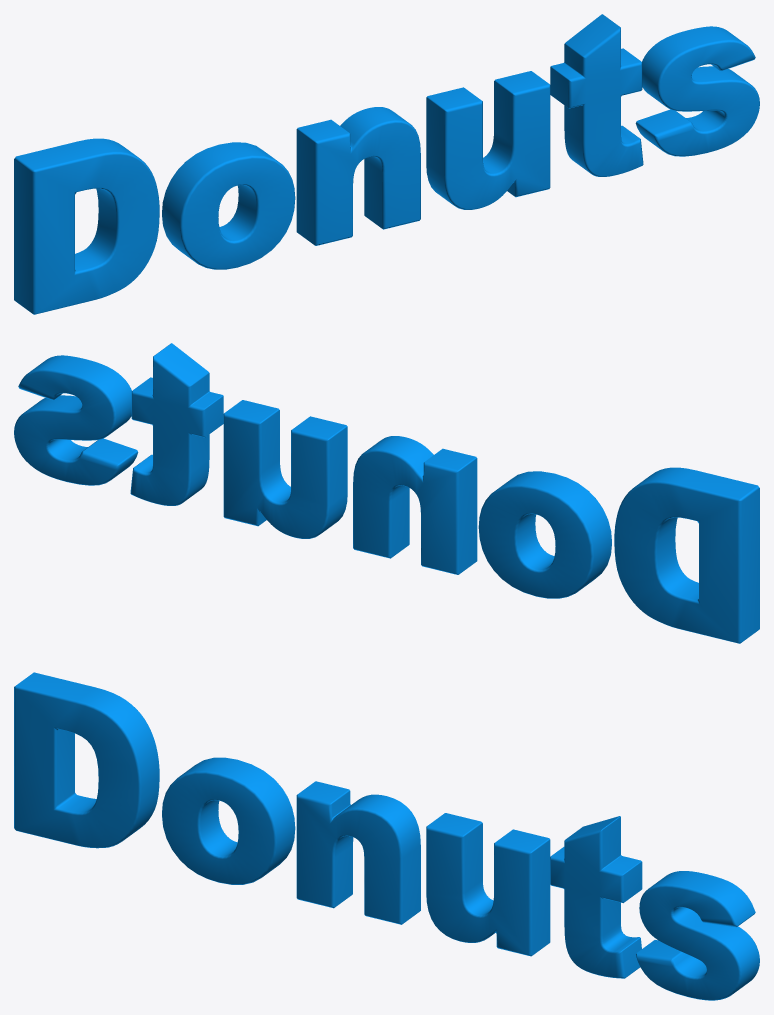
Rendered from Store_14_Donuts_Sign_1.glb.
3 renders of one model, top to bottom at view 1: azimuth 30°, elevation 25°; view 2: azimuth 150°, elevation 25°; view 3: azimuth 330°, elevation 25°, orthographic.
Parts seen in each view (by area): view 1: Store_14_Donuts_Sign_1; view 2: Store_14_Donuts_Sign_1; view 3: Store_14_Donuts_Sign_1.
Part boxes in pixels (box(x1,y1,x2,y2)): Store_14_Donuts_Sign_1: box(14, 14, 759, 314); Store_14_Donuts_Sign_1: box(14, 343, 759, 643); Store_14_Donuts_Sign_1: box(14, 672, 759, 1000).
Size of the model in its own units: 5.25 by 1.02 by 0.2629.
Materials: 1 (1 with a texture image).
